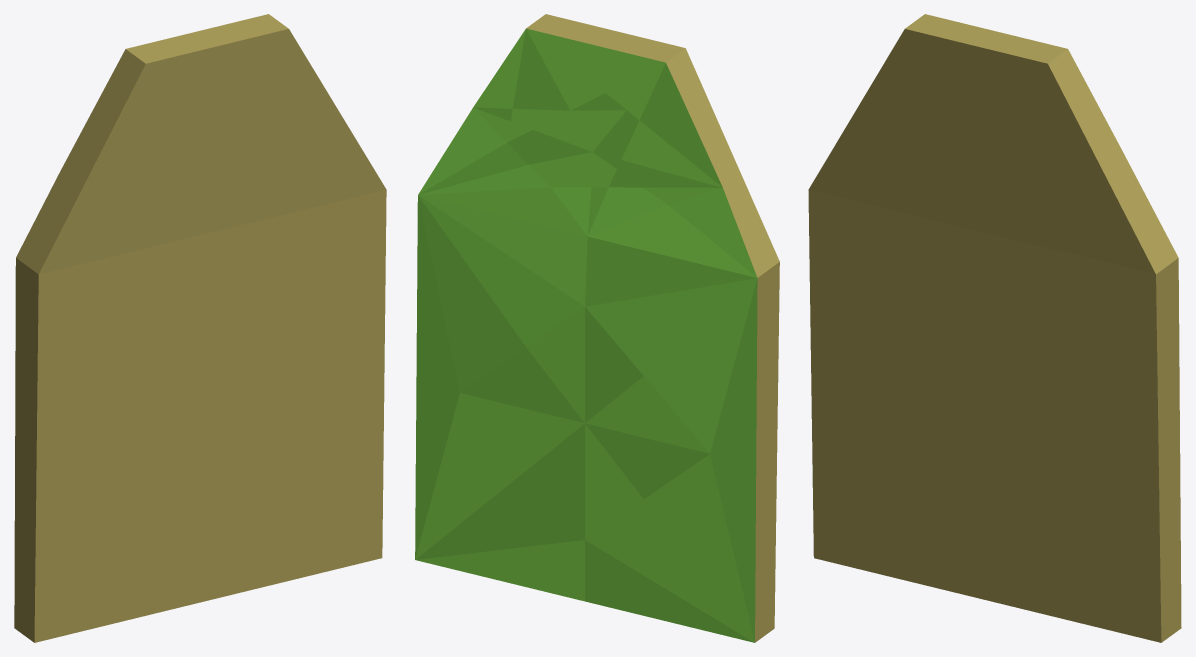
File: PlatformIsland2.fbx
3 renders of one model, left to right at view 1: azimuth 30°, elevation 25°; view 2: azimuth 150°, elevation 25°; view 3: azimuth 330°, elevation 25°, orthographic. The views are drawn at different scales.
Parts seen in each view (by area): view 1: Platform1Island2; view 2: Platform1Island2; view 3: Platform1Island2.
Part boxes in pixels (x1,y1,x2,y2): Platform1Island2: [14, 14, 386, 642]; Platform1Island2: [415, 14, 779, 642]; Platform1Island2: [808, 14, 1181, 642].
Bounding box in the file's own units: 5 × 7.71 × 0.7523.
